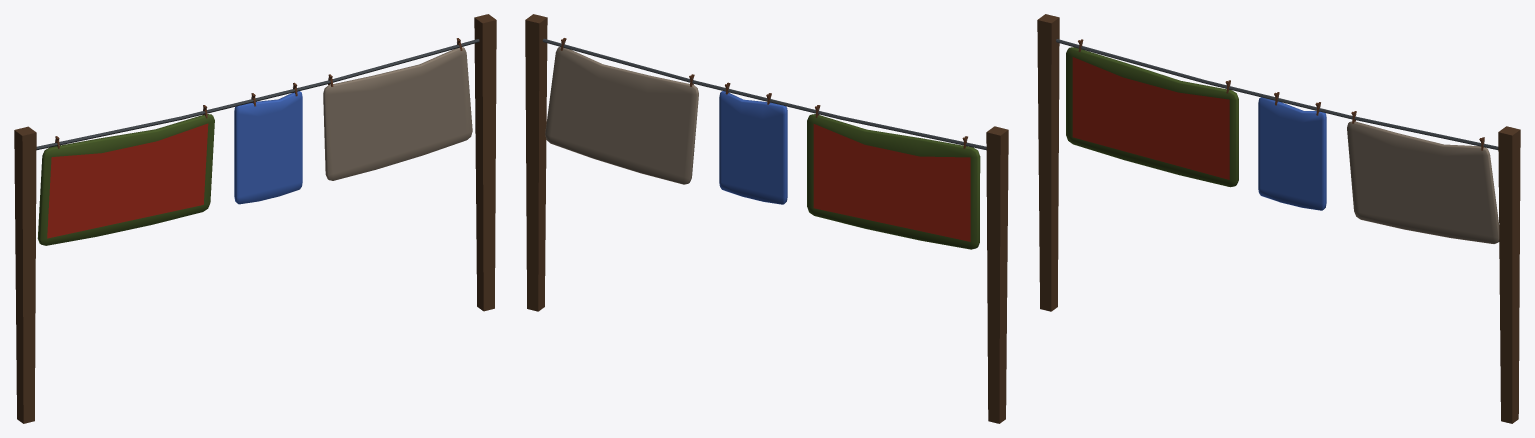
File: Coverlet_1.fbx
3 renders of one model, left to right at view 1: azimuth 30°, elevation 25°; view 2: azimuth 150°, elevation 25°; view 3: azimuth 330°, elevation 25°, orthographic.
Parts seen in each view (by area): view 1: Coverlet_1; view 2: Coverlet_1; view 3: Coverlet_1.
Boxes of the visible parts, left/top/right/bottom form: Coverlet_1: left=14, top=14, right=496, bottom=423; Coverlet_1: left=525, top=14, right=1008, bottom=423; Coverlet_1: left=1037, top=14, right=1520, bottom=423.
Bounding box in the file's own units: 282 × 164 × 8.7.
